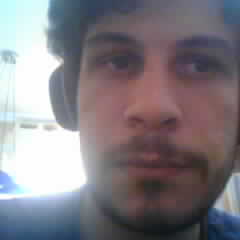without_mask: (77, 1, 238, 228)
